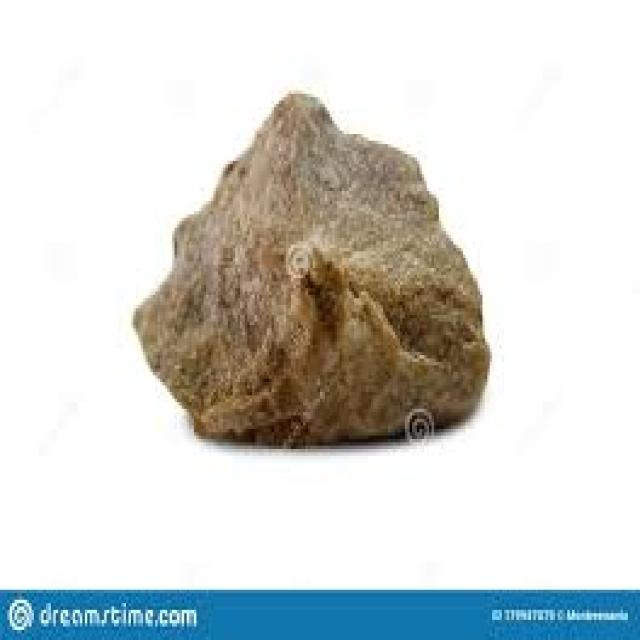Metamorphic: (126, 87, 499, 436)
